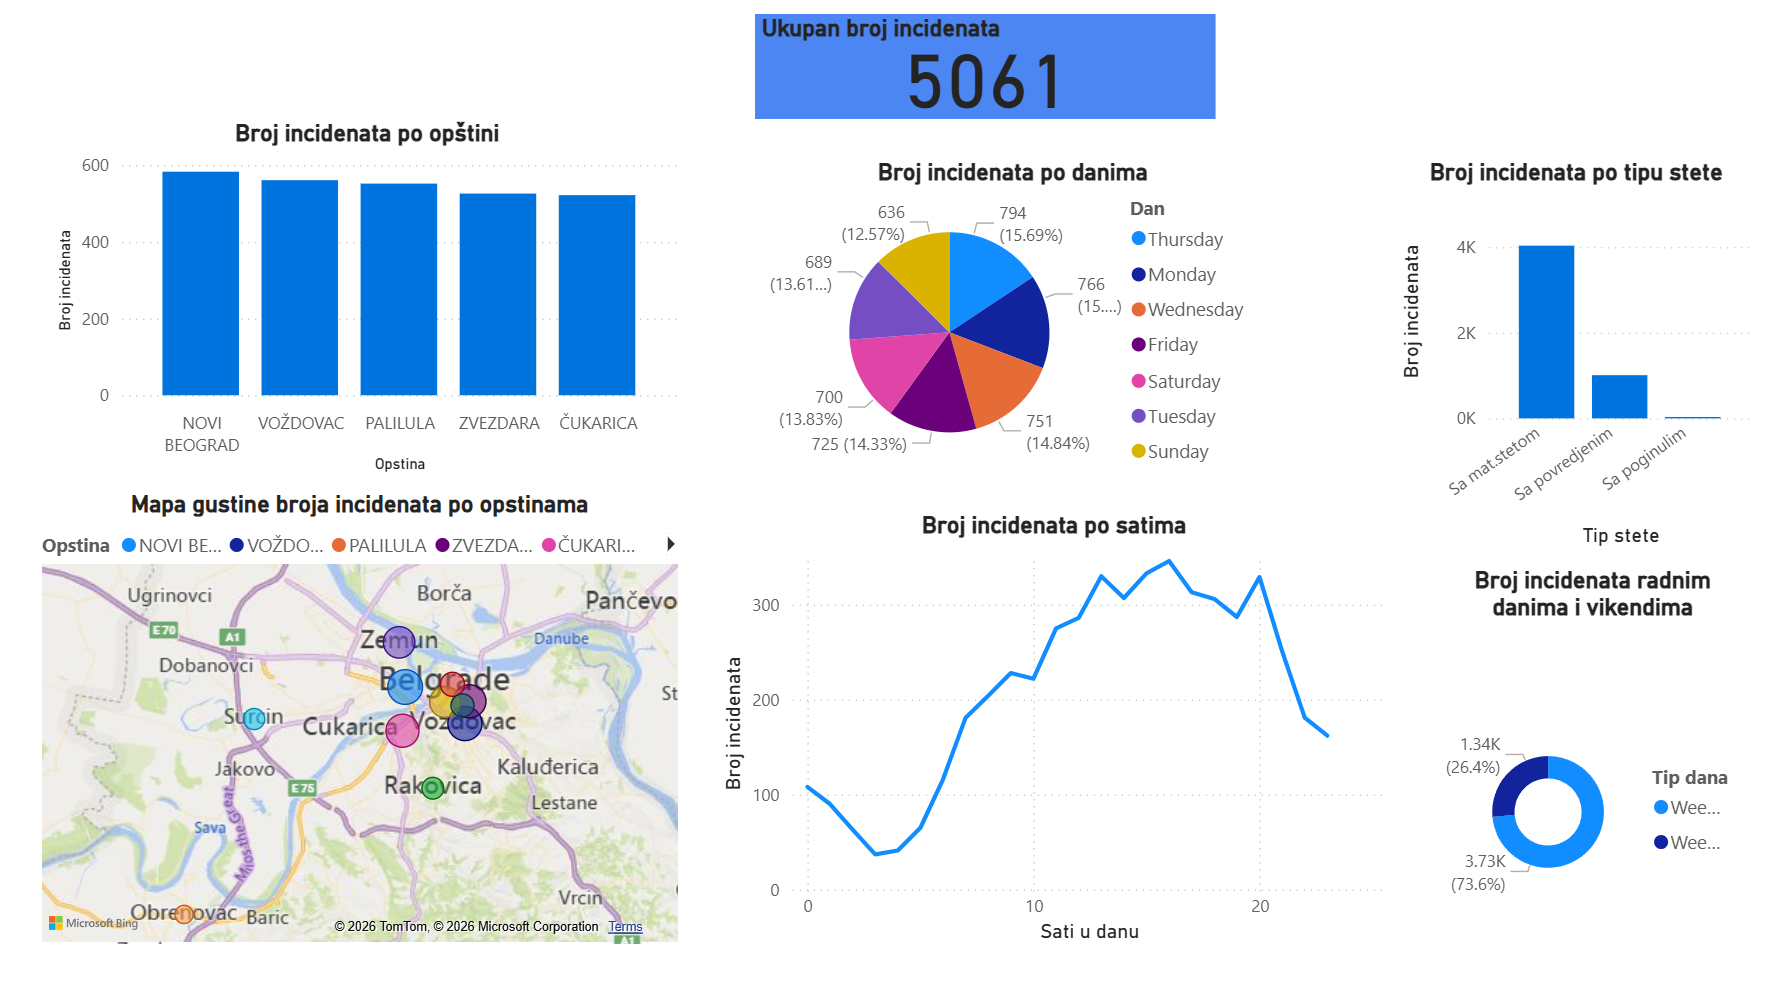

The dashboard page shown, as its layout file describes it:
{"tool":"powerbi","page":{"name":"Page 1","canvas":[1280,720],"ordinal":0},"visuals":[{"type":"columnChart","title":"Broj incidenata po opštini","fields":{"Category":["niggareare.Opstina"],"Y":["CountNonNull(niggareare.Opstina)"]},"box":[38,87.3,453.3,257.3],"z":0},{"type":"map","title":"Mapa gustine broja incidenata po opstinama","fields":{"Series":["niggareare.Opstina"],"Size":["CountNonNull(niggareare.Opstina)"],"Category":["niggareare.Opstina"]},"box":[27.3,352,464,328.7],"z":1000},{"type":"pieChart","title":"Broj incidenata po danima","fields":{"Category":["niggareare.Dan"],"Y":["CountNonNull(niggareare.Dan)"]},"box":[546.7,114.7,358.7,230],"z":2000},{"type":"lineChart","title":"Broj incidenata po satima","fields":{"Category":["niggareare.Hour"],"Y":["CountNonNull(niggareare.Hour)"]},"box":[512.7,367.3,484.7,313.3],"z":3000},{"type":"columnChart","title":"Broj incidenata po tipu stete","fields":{"Category":["niggareare.Tip stete"],"Y":["CountNonNull(niggareare.Tip stete)"]},"box":[997.3,114.7,262,282],"z":4000},{"type":"donutChart","title":"Broj incidenata radnim danima i vikendima","fields":{"Category":["niggareare.Tip dana"],"Y":["CountNonNull(niggareare.Tip dana)"]},"box":[1028.7,406.7,222.7,313.3],"z":5000},{"type":"kpi","title":"Ukupan broj incidenata","fields":{"TrendLine":["niggareare.Broj incidenata"],"Indicator":["CountNonNull(niggareare.Broj incidenata)"]},"box":[541.5,12.3,329.2,75.4],"z":6000}]}

Visuals, with their boxes in screenshot pixels (x1, y1, x2, y2), scaled from the page's 1280x720 canvas onto the 1786x1000 screenshot:
"Broj incidenata po opštini" columnChart: box=[53, 121, 686, 479]
"Mapa gustine broja incidenata po opstinama" map: box=[38, 489, 686, 945]
"Broj incidenata po danima" pieChart: box=[763, 159, 1263, 479]
"Broj incidenata po satima" lineChart: box=[715, 510, 1392, 945]
"Broj incidenata po tipu stete" columnChart: box=[1392, 159, 1757, 551]
"Broj incidenata radnim danima i vikendima" donutChart: box=[1435, 565, 1746, 999]
"Ukupan broj incidenata" kpi: box=[756, 17, 1215, 122]
